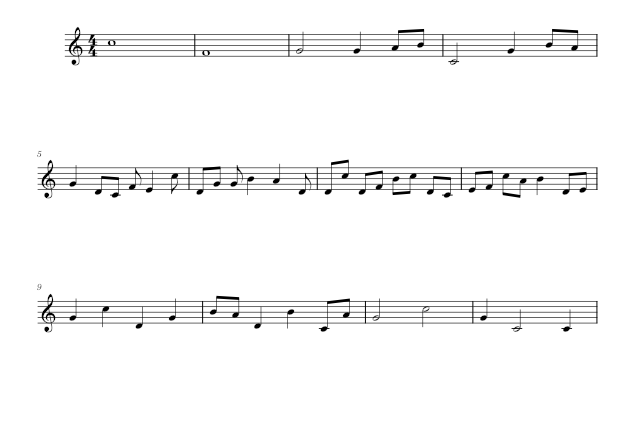Treble Clef: (38, 157, 60, 203), (63, 22, 84, 70), (38, 292, 60, 335)
